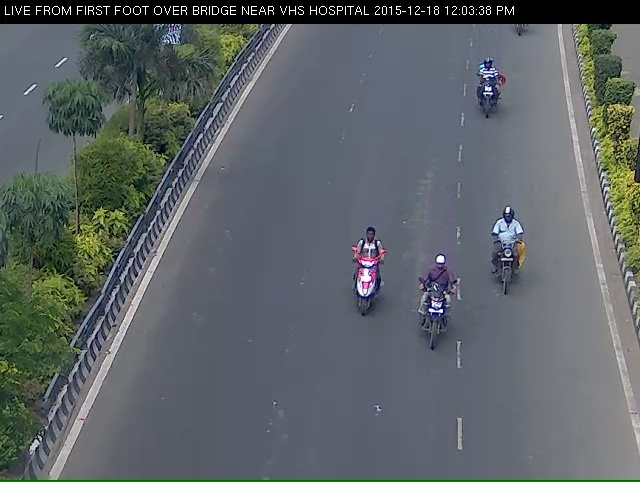Person: (409, 283, 469, 383), (482, 219, 534, 317), (342, 235, 383, 349), (468, 62, 509, 134)
